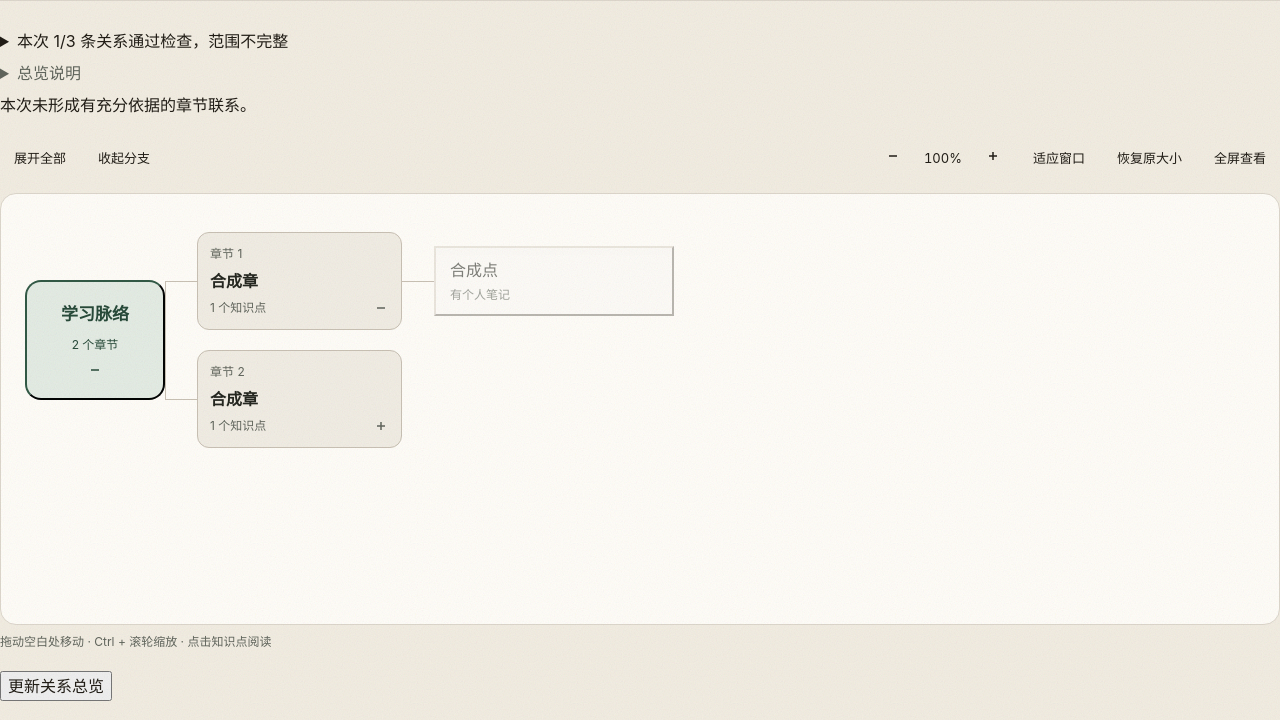
discloses partial publication and rejected relation reasons separately from the saved summary
What coordinates should you click on to do the following:
click the heading "本次 1/3 条关系通过检查，范围不完整"
I would click on:
 (152, 41)
Its box is [17, 31, 288, 51].
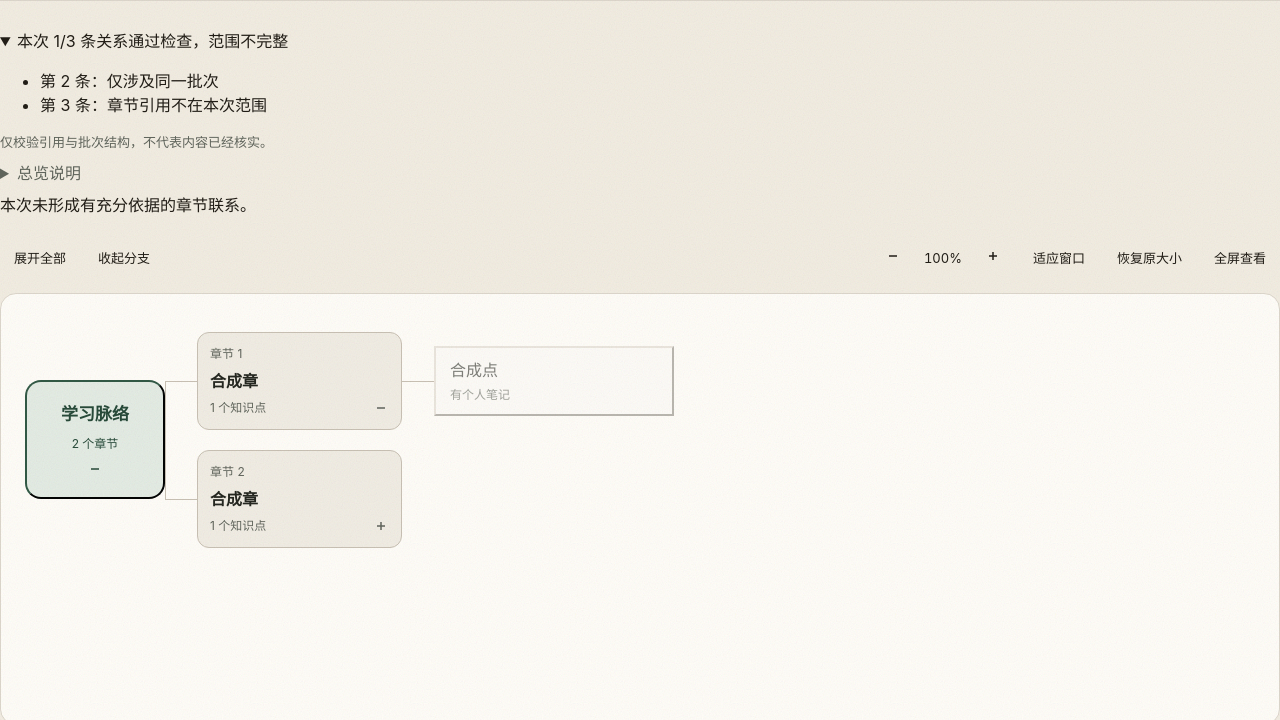
Expected: the list item "第 2 条：仅涉及同一批次" is shown, [40, 71, 219, 91]
Expected: the list item "第 3 条：章节引用不在本次范围" is shown, [40, 95, 267, 115]
